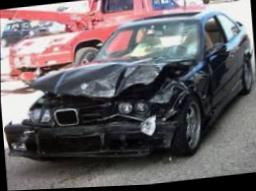Bonnet: (29, 64, 176, 97)
Bumper: (5, 114, 173, 160)
Fender: (156, 66, 214, 118)
Light: (116, 94, 159, 114)
